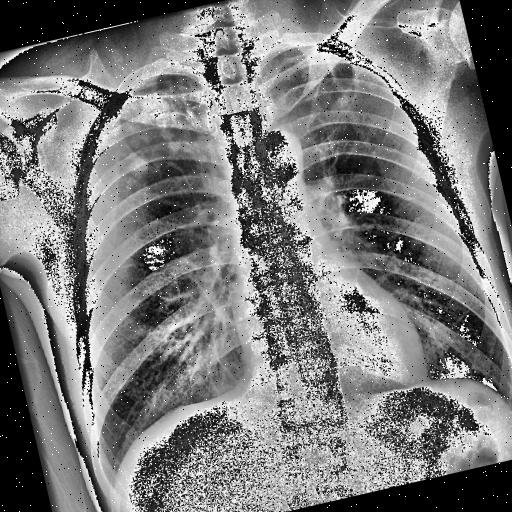13- Pulmonary fibrosis: (104, 78, 218, 192), (99, 104, 192, 184), (112, 92, 190, 180), (312, 68, 357, 118), (323, 70, 370, 117)
7- Lung Opacity: (334, 90, 356, 112)
8- Nodule-Mass: (112, 92, 190, 180), (334, 90, 356, 112)
